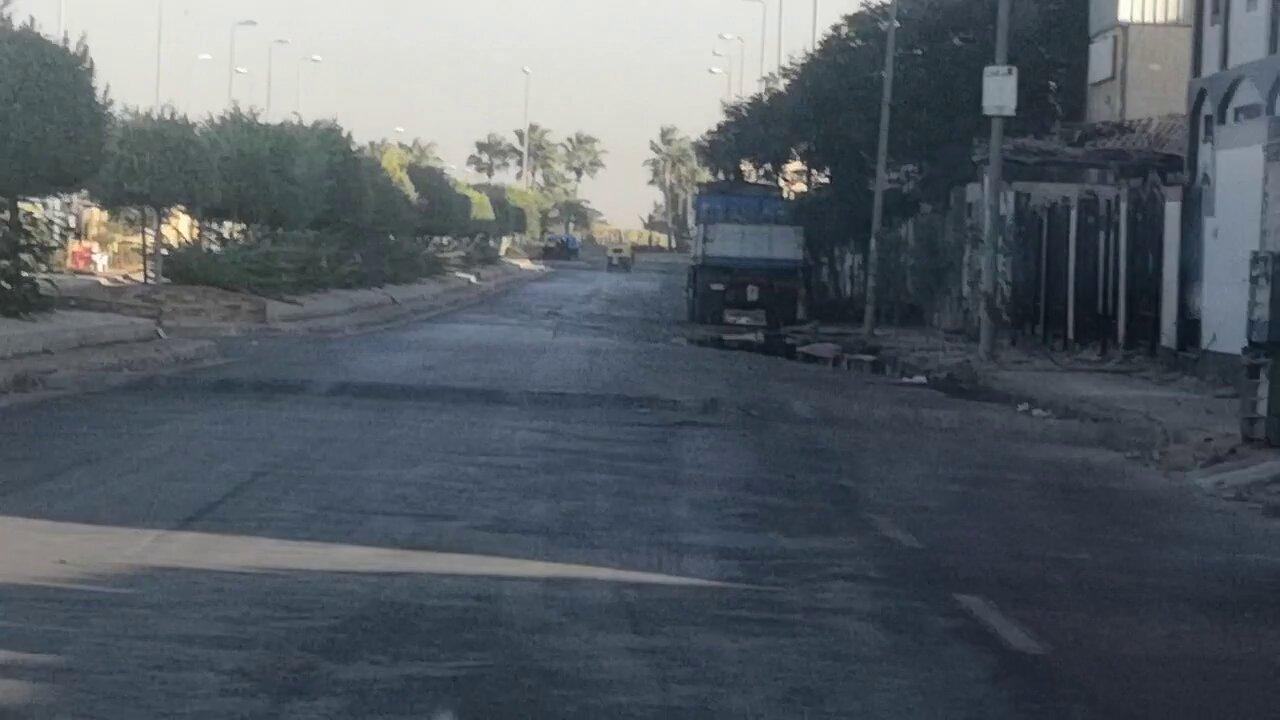Bump: (103, 367, 1043, 438)
